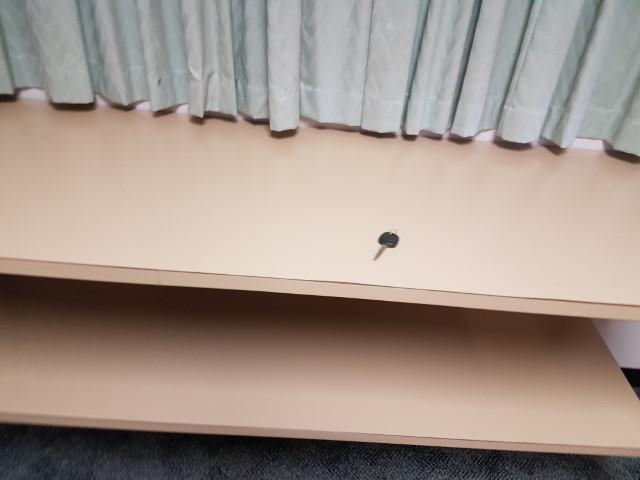key: (373, 232, 398, 261)
